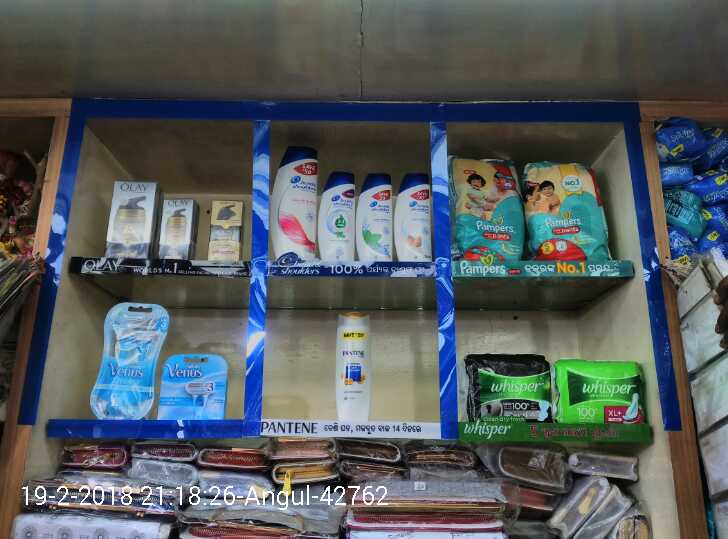venus: (104, 303, 158, 416), (167, 349, 231, 413)
